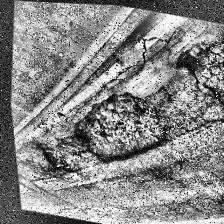pothole: (62, 80, 174, 176), (28, 138, 80, 178), (171, 48, 201, 76)
